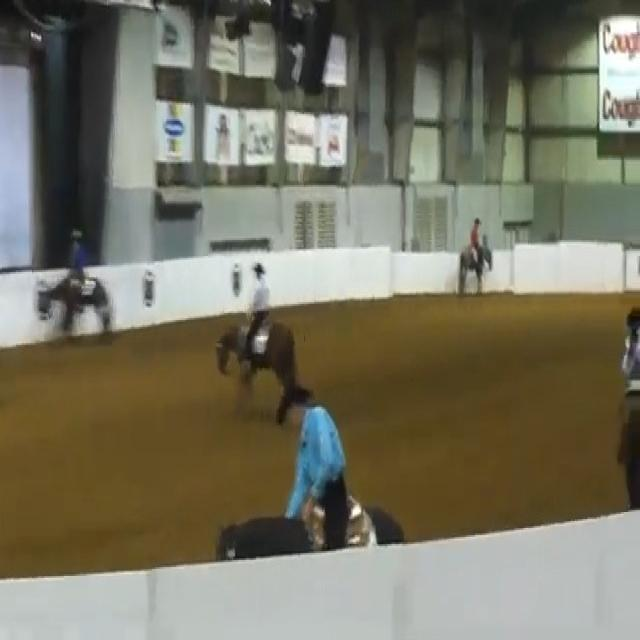horse: (208, 260, 317, 416), (32, 208, 121, 354), (452, 206, 504, 322)
